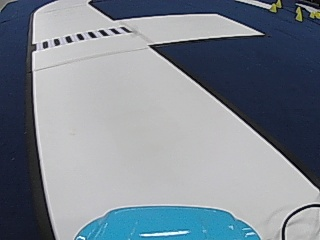CrossWalk: (38, 25, 131, 49)
